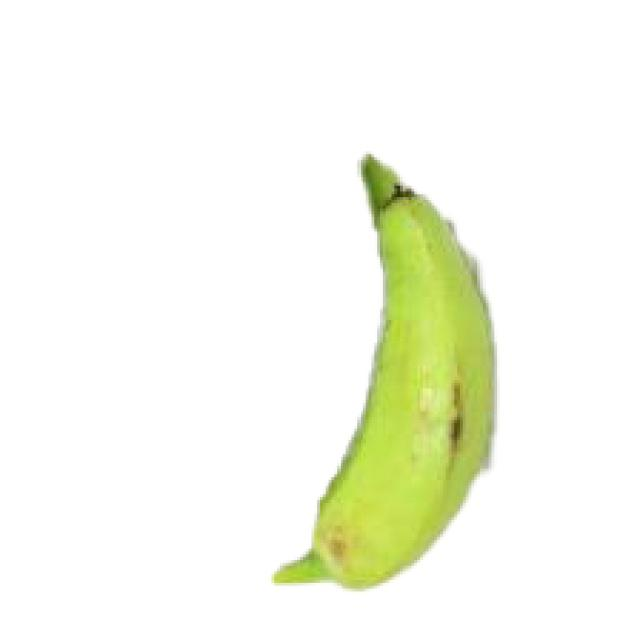fresh-banana: (269, 152, 497, 592)
